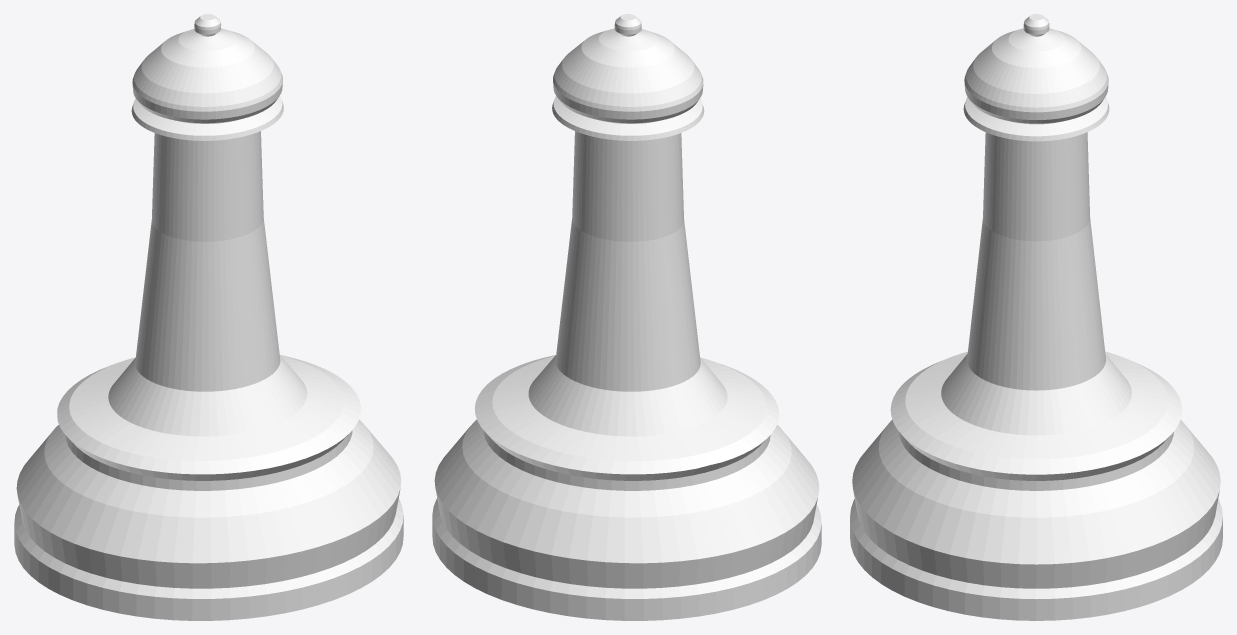
File: PawnW.glb
The picture shows the model from 3 angles, left to right: view 1: azimuth 30°, elevation 25°; view 2: azimuth 150°, elevation 25°; view 3: azimuth 270°, elevation 25°; orthographic projection.
Visible parts, largest first — view 1: RookA8; view 2: RookA8; view 3: RookA8.
Boxes of the visible parts, x1,y1,x2,y2 form: RookA8: (14,14,403,620); RookA8: (432,14,821,620); RookA8: (850,14,1222,620).
Size of the model in its own units: 0.7421 by 1.09 by 0.7074.
1 material, 1 textured.
